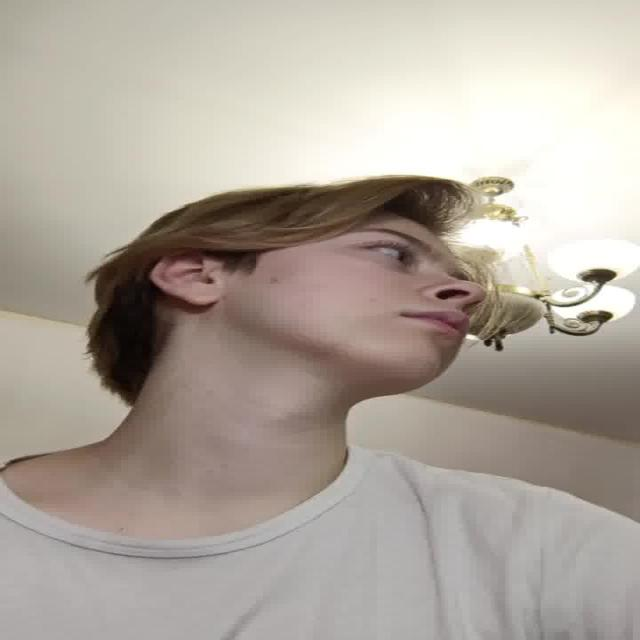earlobe: (183, 282, 221, 307)
eye: (350, 242, 408, 262)
nose: (427, 295, 478, 317)
wholeear: (150, 248, 220, 307)
